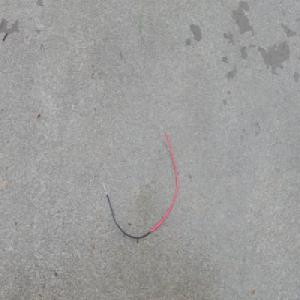Wire: (99, 123, 177, 241)
